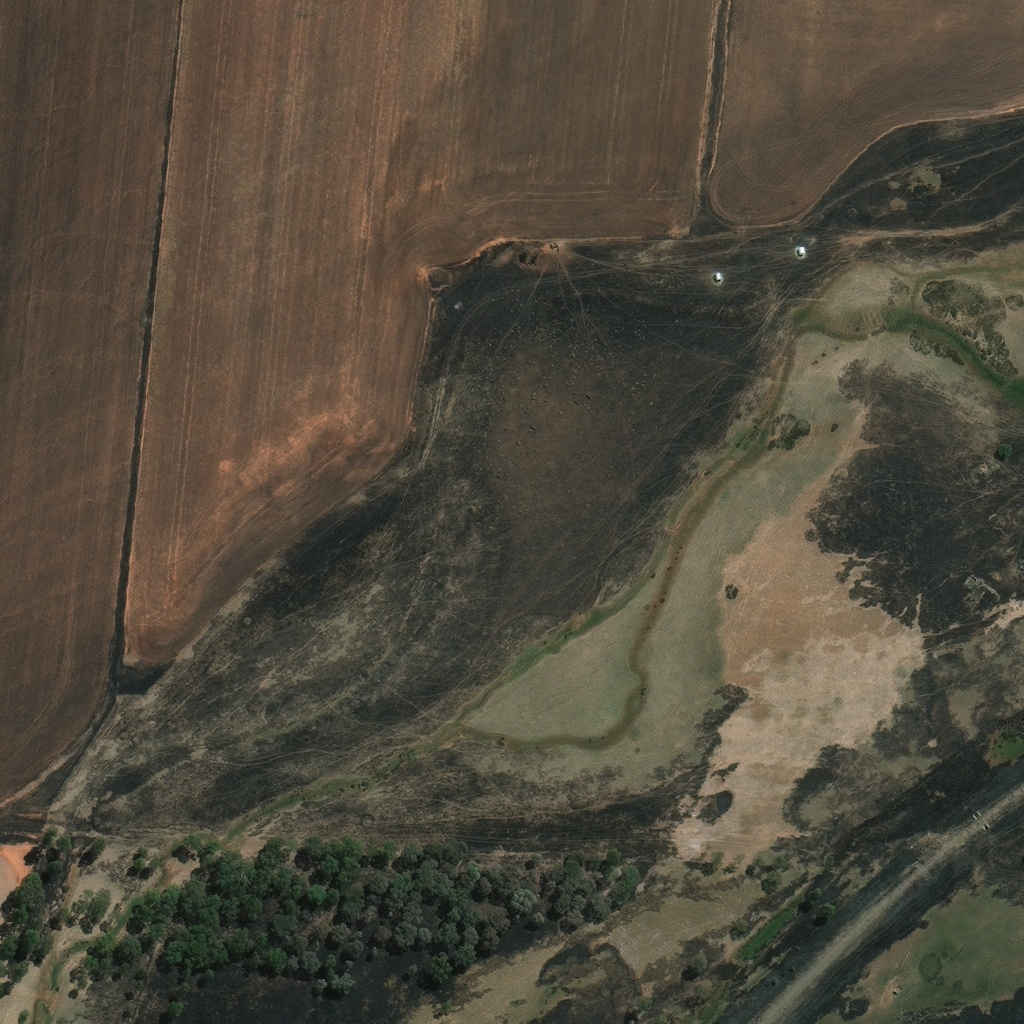3 destroyed: (849, 209, 858, 216)
